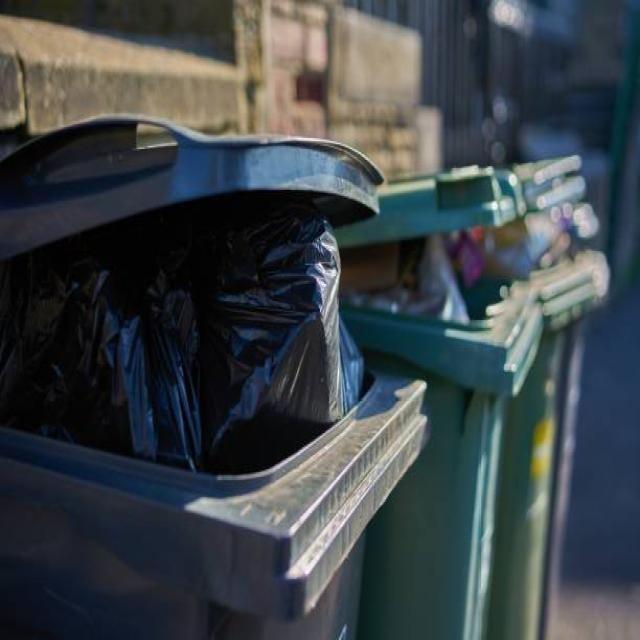trash: (20, 227, 338, 455)
